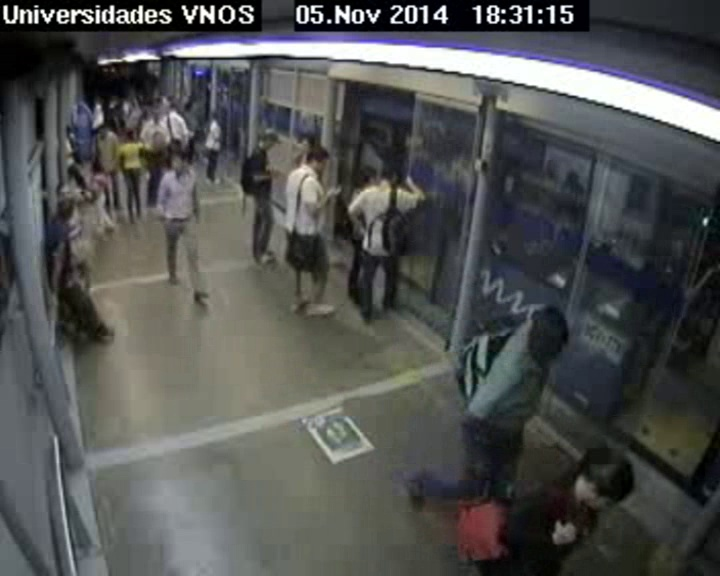person: (576, 446, 633, 515), (528, 307, 571, 357), (309, 147, 329, 171), (259, 128, 280, 150), (356, 167, 376, 188), (56, 201, 75, 221), (171, 153, 188, 173), (57, 184, 75, 202), (300, 136, 315, 153), (93, 124, 107, 139), (379, 164, 393, 179), (90, 159, 104, 173), (124, 128, 137, 142), (151, 131, 163, 145), (171, 140, 182, 152), (125, 89, 136, 100), (63, 126, 74, 137), (67, 166, 78, 177), (110, 94, 120, 105), (150, 110, 160, 121), (93, 98, 102, 108), (185, 101, 193, 110), (169, 104, 177, 113), (212, 112, 220, 120), (147, 99, 154, 106), (167, 95, 173, 102), (154, 98, 160, 104)
